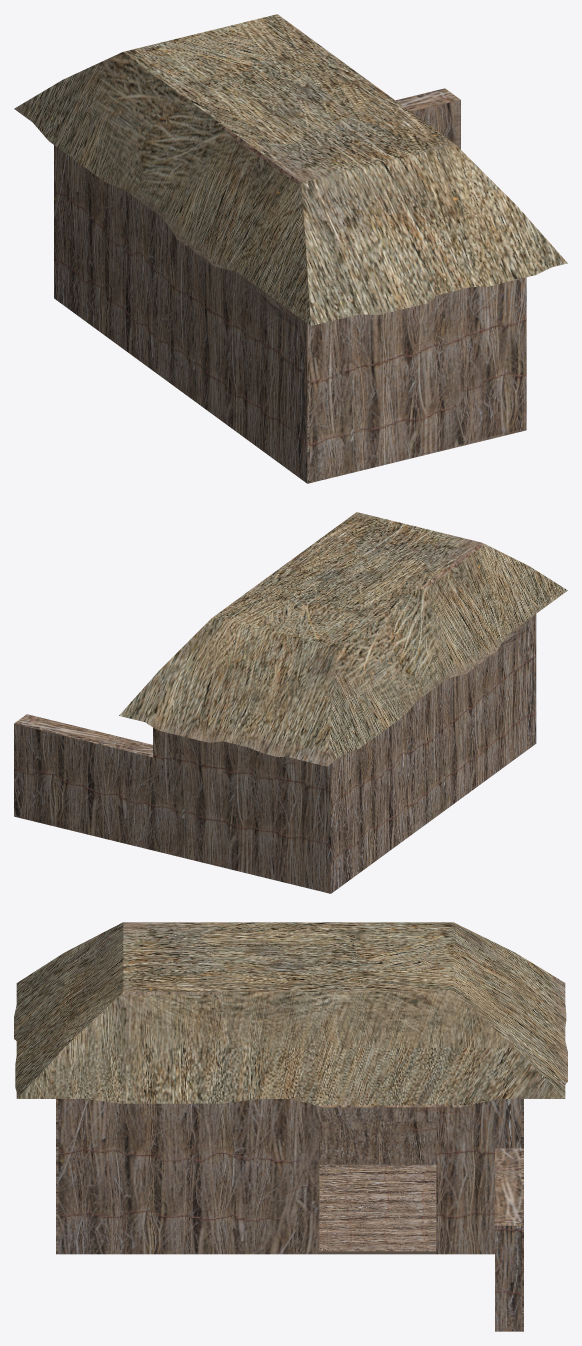
File: Lumber-Mill.fbx
3 renders of one model, top to bottom at view 1: azimuth 30°, elevation 25°; view 2: azimuth 150°, elevation 25°; view 3: azimuth 270°, elevation 25°, orthographic. The views are drawn at different scales.
Visible parts, largest first — view 1: Plane; view 2: Plane; view 3: Plane.
Boxes of the visible parts, x1,y1,x2,y2 form: Plane: (14,14,567,483); Plane: (14,512,567,893); Plane: (14,922,567,1331).
Size of the model in its own units: 376 by 233 by 473.
